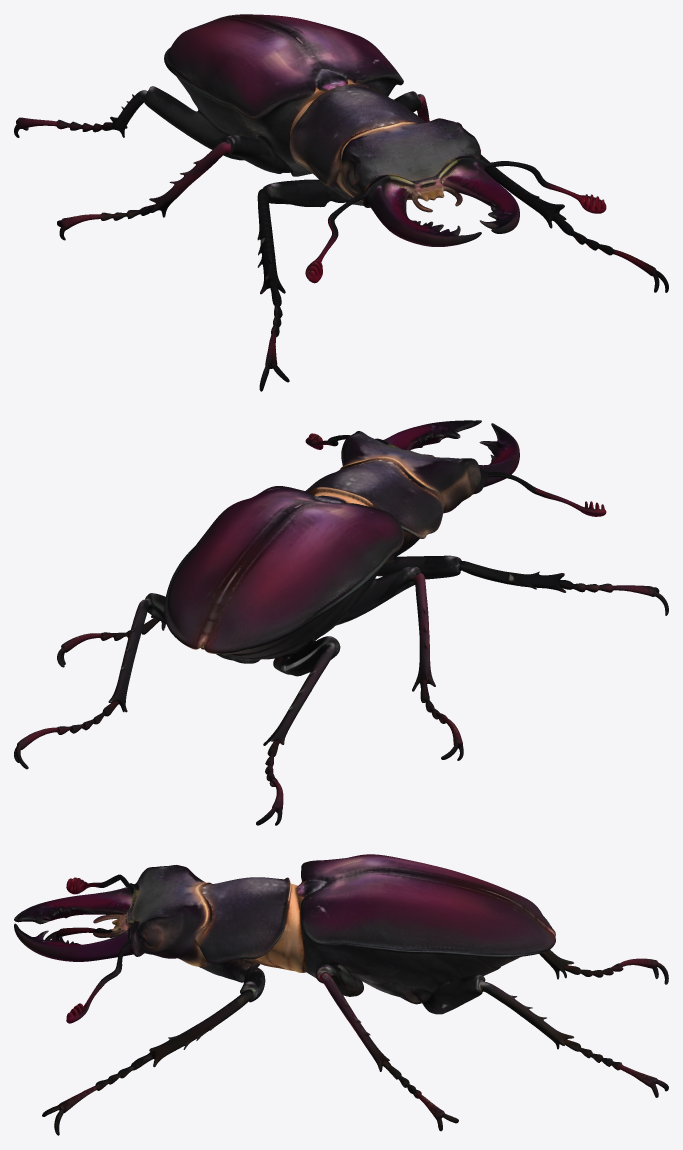
The model's file is stag_beetle.glb.
The picture shows the model from 3 angles, top to bottom: view 1: azimuth 30°, elevation 25°; view 2: azimuth 150°, elevation 25°; view 3: azimuth 270°, elevation 25°; orthographic projection. The views are drawn at different scales.
Bounding box in the file's own units: 1.29 × 0.5516 × 1.9.
1 material, 1 textured.
